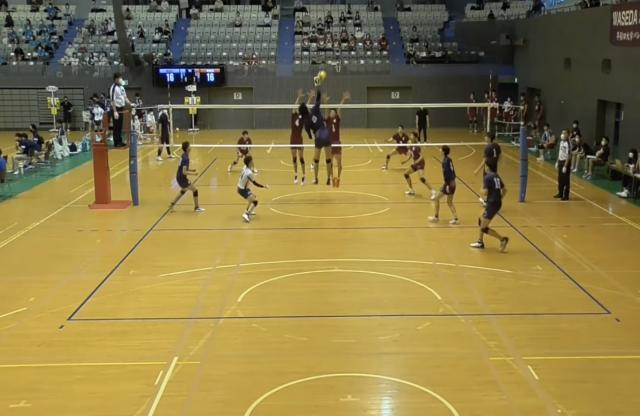spike: (296, 67, 338, 189)
